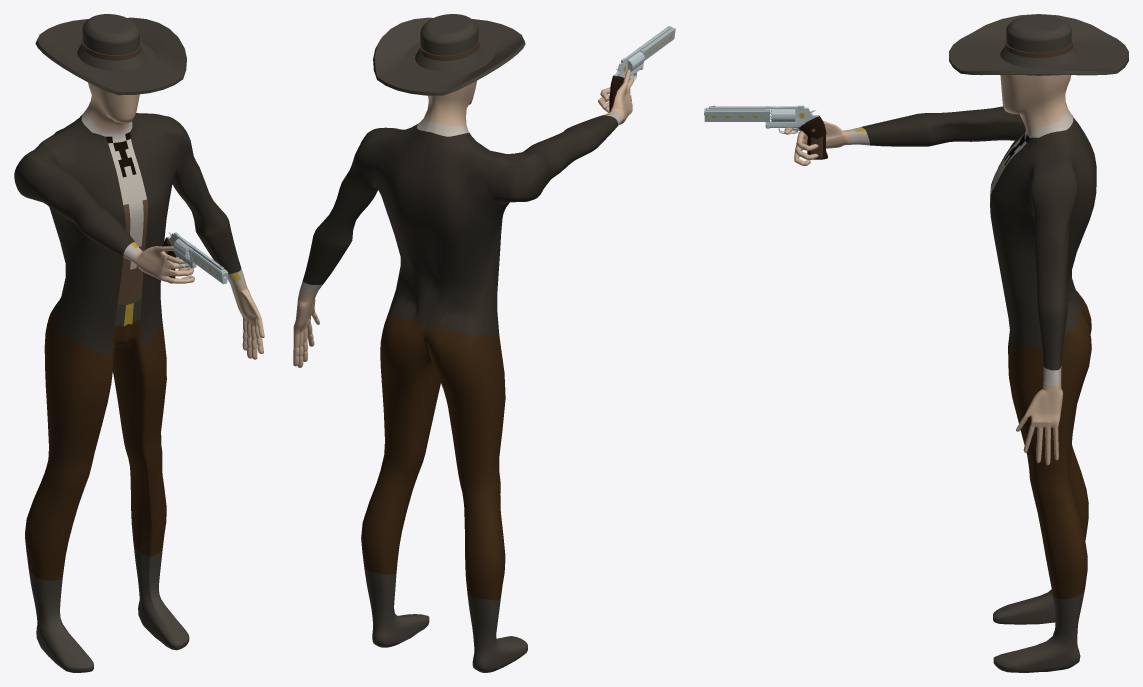
Rendered from EnemyAim.fbx.
3 renders of one model, left to right at view 1: azimuth 30°, elevation 25°; view 2: azimuth 150°, elevation 25°; view 3: azimuth 270°, elevation 25°, orthographic.
Parts seen in each view (by area): view 1: HumanAim; view 2: HumanAim; view 3: HumanAim.
Part boxes in pixels (bbox=[...]): HumanAim: bbox=[14, 14, 264, 672]; HumanAim: bbox=[293, 14, 675, 672]; HumanAim: bbox=[704, 14, 1128, 672].
Bounding box in the file's own units: 22.07 × 55.18 × 34.27.
